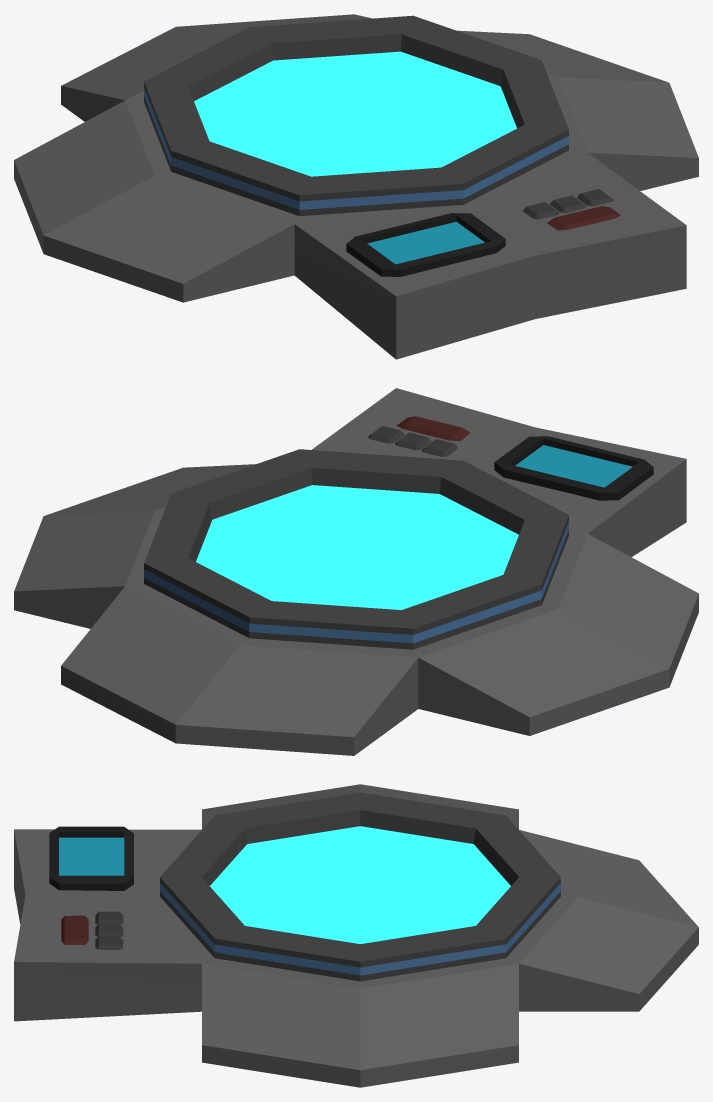
File: ExitPortal.glb
The picture shows the model from 3 angles, top to bottom: view 1: azimuth 30°, elevation 25°; view 2: azimuth 150°, elevation 25°; view 3: azimuth 270°, elevation 25°; orthographic projection. The views are drawn at different scales.
Visible parts, largest first — view 1: Portal, Base, Base2, ControlScreen, Button, Button.001; view 2: Portal, Base2, Base, ControlScreen, Button, Button.001; view 3: Portal, Base2, Base, ControlScreen, Button, Button.001.
Part boxes in pixels (bbox=[...]): Portal: bbox=[144, 15, 568, 216]; Base: bbox=[14, 30, 698, 302]; Base2: bbox=[61, 14, 686, 359]; ControlScreen: bbox=[346, 213, 505, 276]; Button: bbox=[523, 189, 612, 219]; Button.001: bbox=[547, 206, 620, 230]; Portal: bbox=[144, 449, 568, 649]; Base2: bbox=[61, 388, 686, 755]; Base: bbox=[14, 464, 698, 735]; ControlScreen: bbox=[494, 436, 653, 500]; Button: bbox=[368, 426, 457, 456]; Button.001: bbox=[397, 416, 470, 441]; Portal: bbox=[160, 792, 560, 981]; Base2: bbox=[14, 829, 698, 1021]; Base: bbox=[143, 784, 577, 1087]; ControlScreen: bbox=[49, 826, 133, 890]; Button: bbox=[95, 911, 123, 949]; Button.001: bbox=[61, 915, 88, 944].
Size of the model in its own units: 4.03 by 0.5123 by 4.08.
